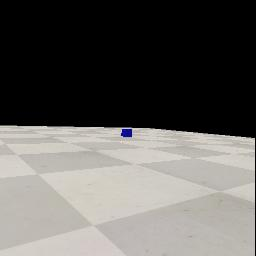box: (121, 129, 132, 137)
